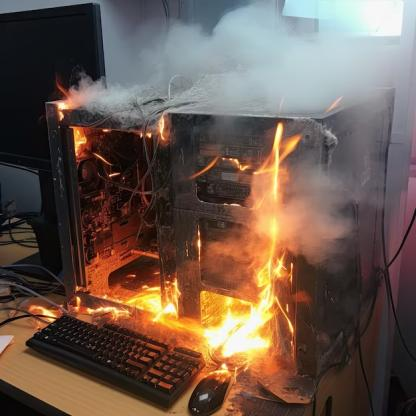fire: (64, 108, 332, 364), (64, 126, 96, 155)
smoke: (69, 1, 416, 264)
